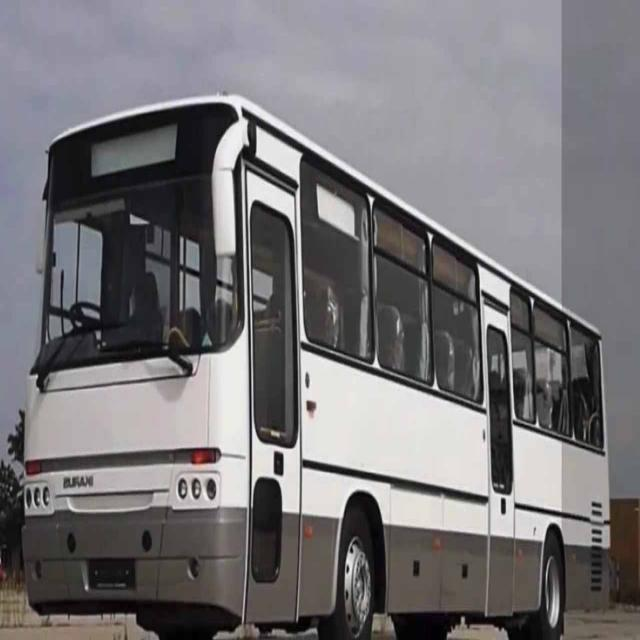bus: (19, 89, 614, 640)
